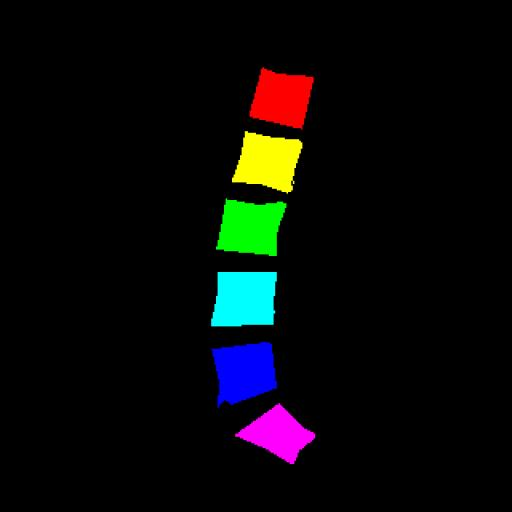L1: (250, 68, 313, 128)
L2: (232, 131, 302, 192)
L3: (216, 199, 286, 256)
L4: (211, 272, 277, 326)
L5: (212, 343, 277, 406)
S1: (235, 404, 315, 464)
